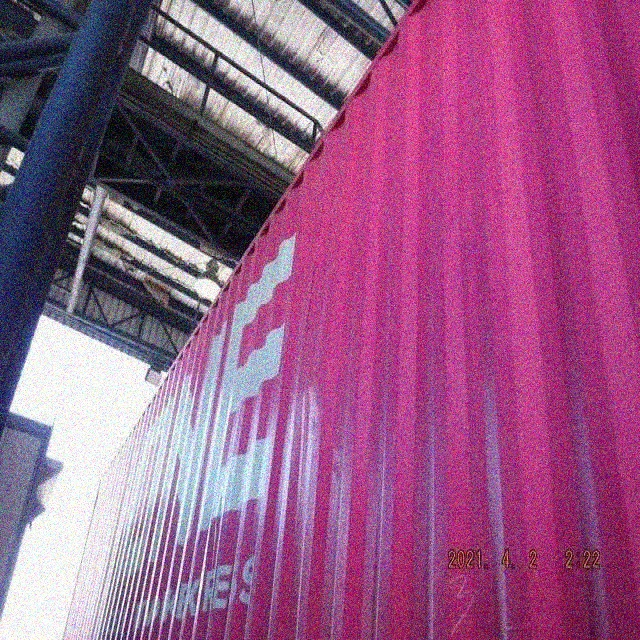Dent: (283, 339, 354, 435), (204, 496, 231, 542)
